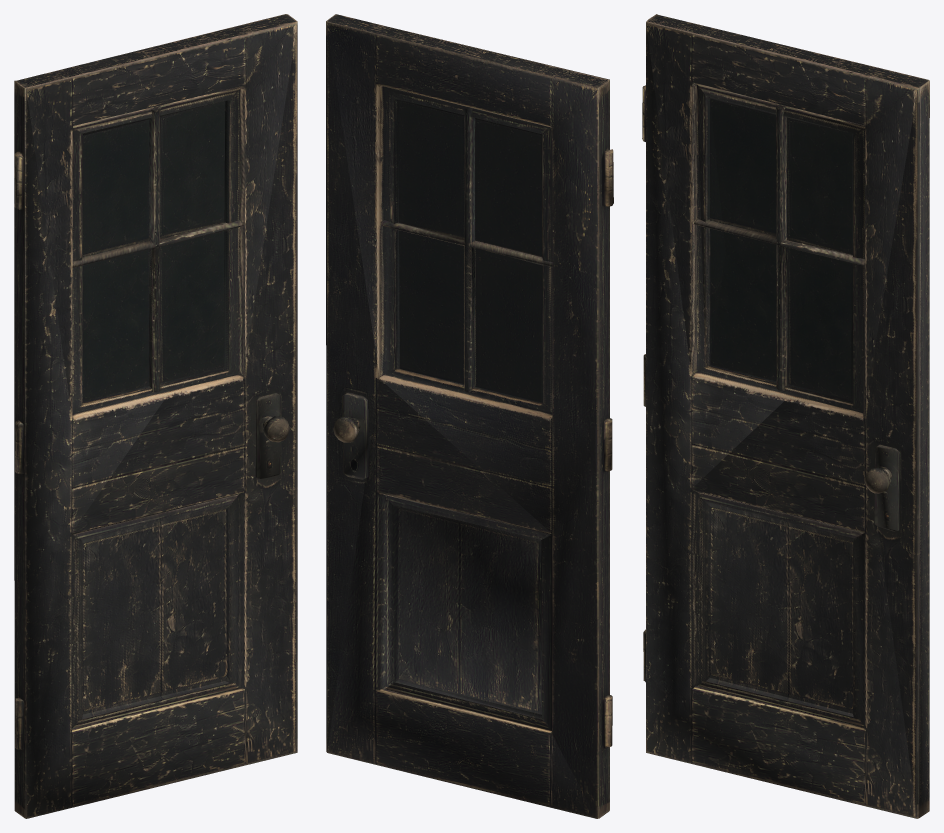
File: big door1.fbx
3 views of the same model, side by side, from view 1: azimuth 30°, elevation 25°; view 2: azimuth 150°, elevation 25°; view 3: azimuth 330°, elevation 25° (orthographic).
Visible parts, largest first — view 1: mesh_node; view 2: mesh_node; view 3: mesh_node.
Part boxes in pixels (bbox=[...]): mesh_node: bbox=[14, 14, 297, 818]; mesh_node: bbox=[326, 14, 613, 818]; mesh_node: bbox=[642, 14, 929, 818].
Bounding box in the file's own units: 40.04 × 100 × 10.23.
Materials: 1 (1 with a texture image).
